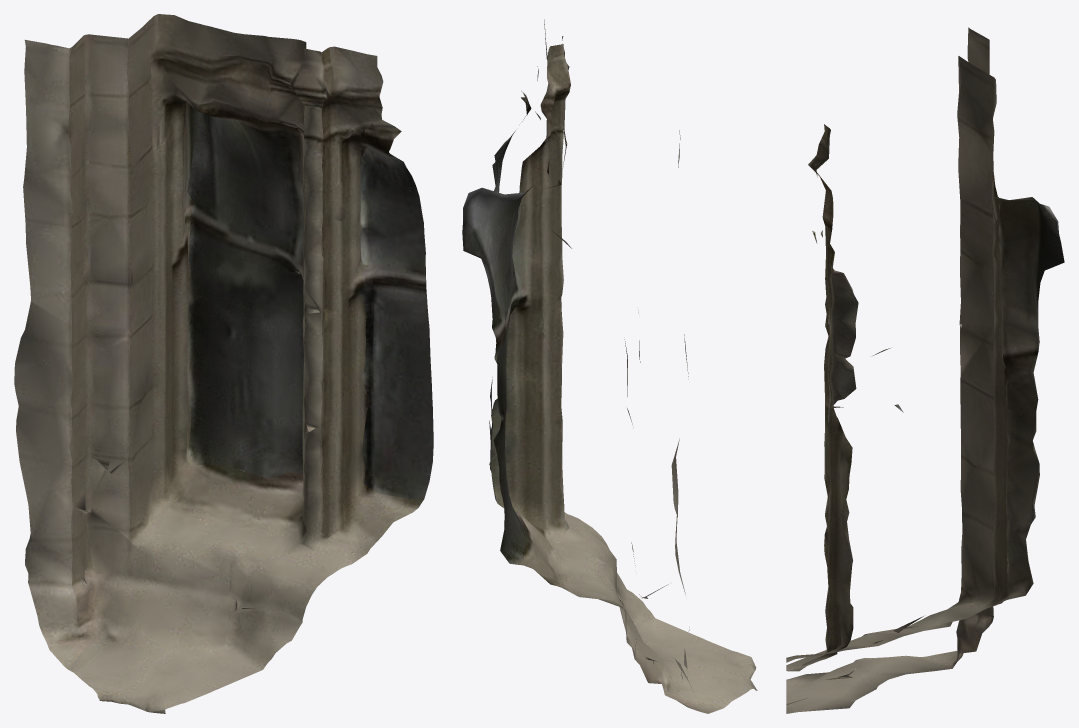
The picture shows the model from 3 angles, left to right: view 1: azimuth 30°, elevation 25°; view 2: azimuth 150°, elevation 25°; view 3: azimuth 270°, elevation 25°; orthographic projection. The views are drawn at different scales.
Bounding box in the file's own units: 1.82 × 3.46 × 1.34.
Materials: 1 (1 with a texture image).
